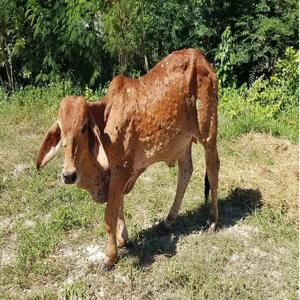lumpy skin diesease: (35, 47, 220, 271)
